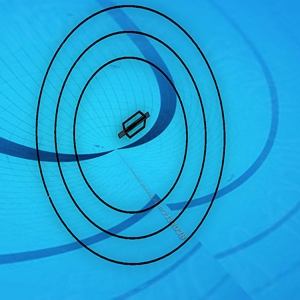circle: (33, 1, 229, 264)
submarine: (118, 112, 150, 140)
